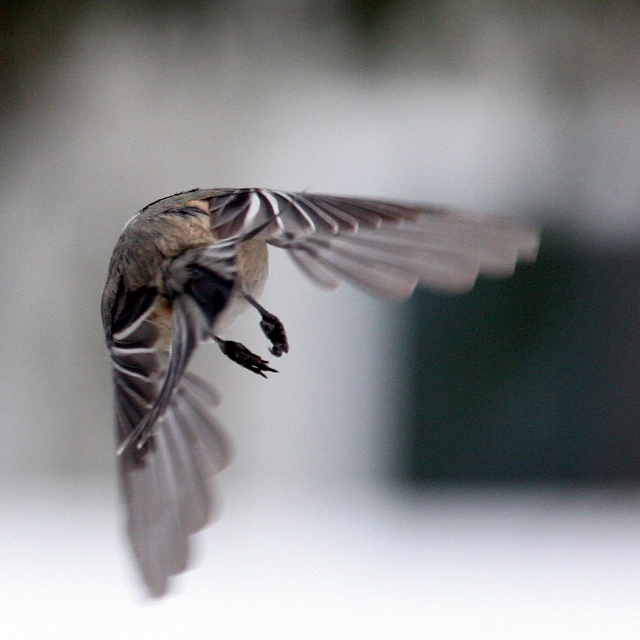Sparrow: (97, 182, 545, 600)
